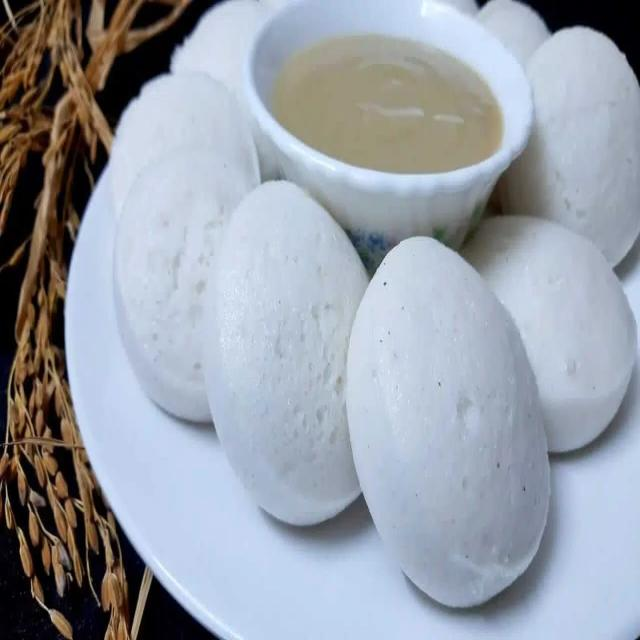Idly: (344, 224, 554, 623), (196, 162, 366, 534), (462, 188, 640, 462), (106, 157, 249, 426), (501, 27, 640, 261)
